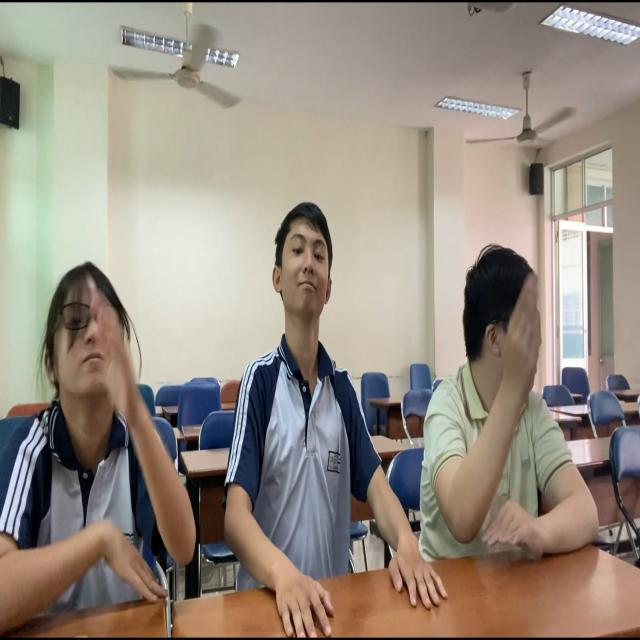raise_hand: (1, 253, 198, 640), (426, 242, 595, 559)
